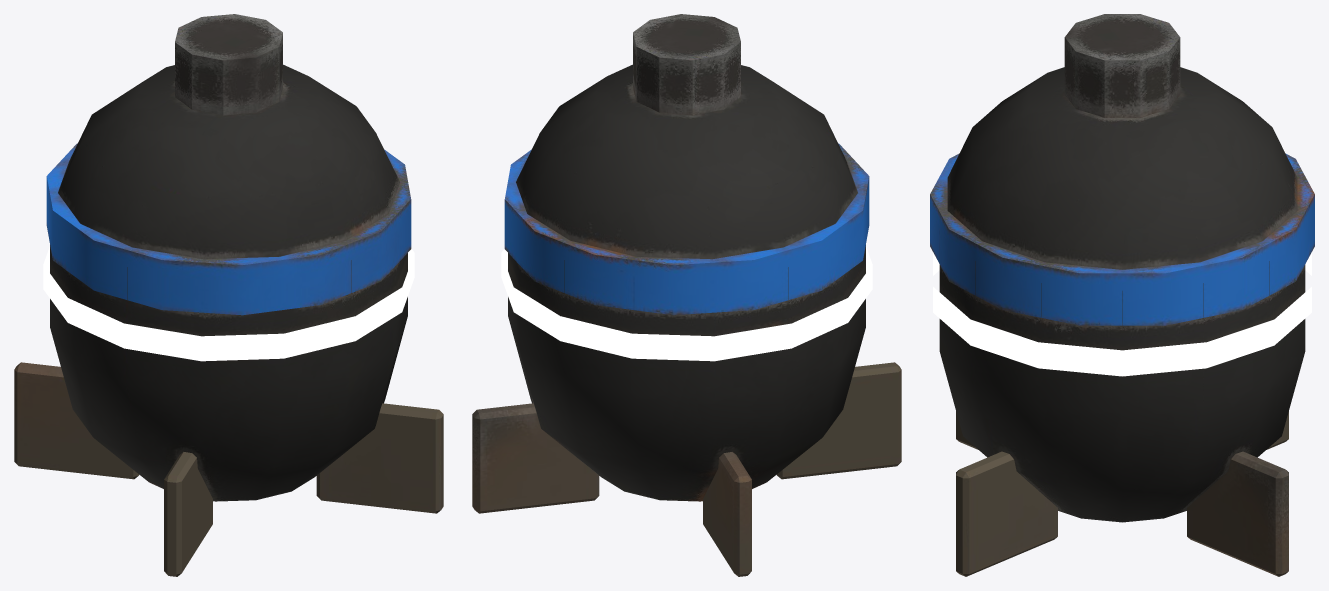
The model's file is rookery_bomblet.glb.
The picture shows the model from 3 angles, left to right: view 1: azimuth 30°, elevation 25°; view 2: azimuth 150°, elevation 25°; view 3: azimuth 270°, elevation 25°; orthographic projection. The views are drawn at different scales.
Parts seen in each view (by area): view 1: Body, Band; view 2: Body, Band; view 3: Body, Band.
Part boxes in pixels (x1,y1,x2,y2): Body: [14, 14, 443, 576]; Band: [43, 246, 414, 361]; Body: [472, 14, 901, 576]; Band: [501, 246, 872, 361]; Body: [930, 14, 1314, 576]; Band: [933, 252, 1311, 376].
Bounding box in the file's own units: 0.0404 × 0.054 × 0.04.
2 materials, 1 textured.
